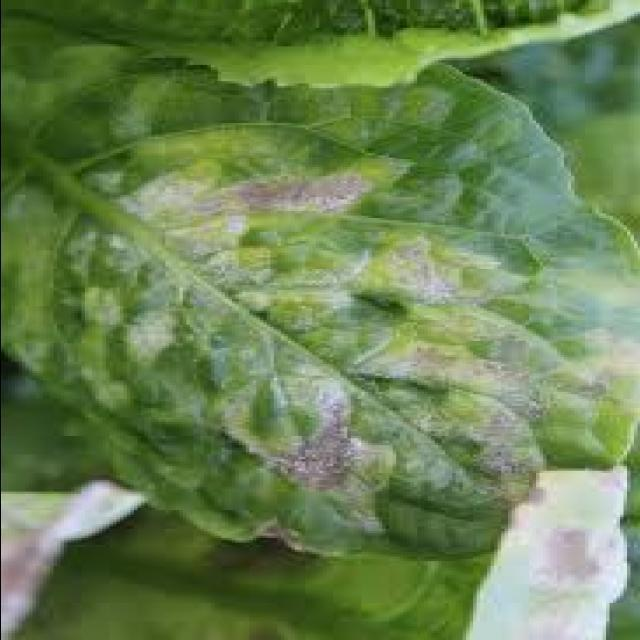Powdery_Mildew: (98, 172, 518, 481)
